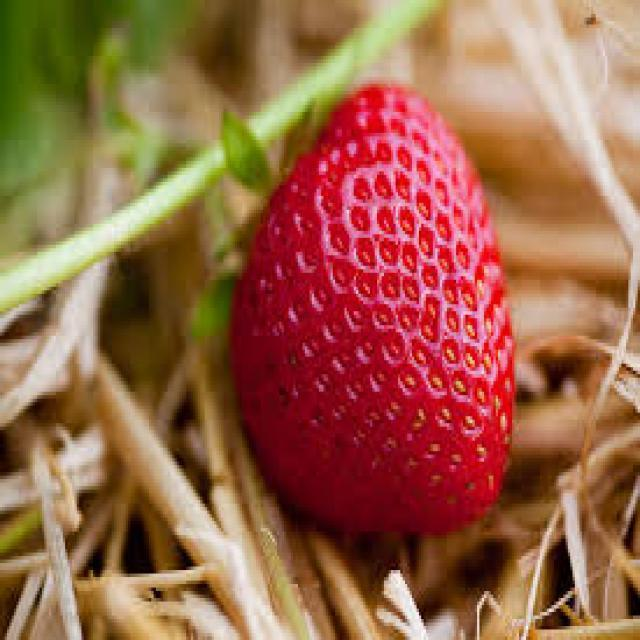Strawberry: (226, 82, 518, 524)
